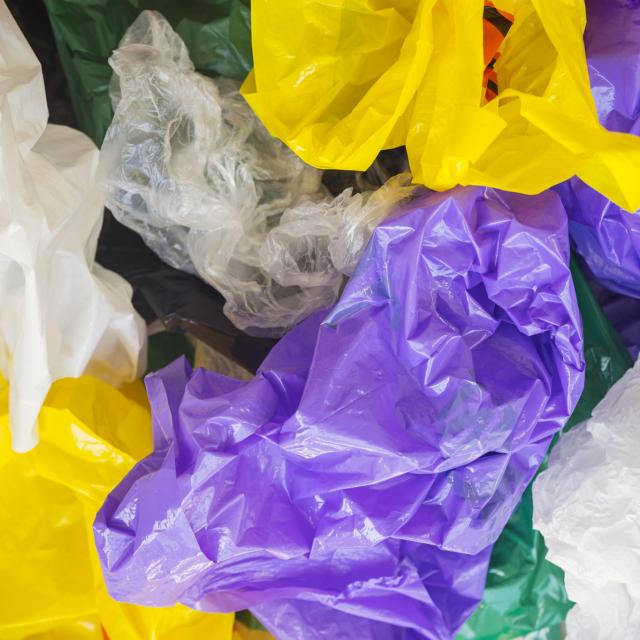Single-layer Plastic: (95, 186, 584, 640), (96, 10, 425, 337), (241, 0, 639, 211), (0, 376, 274, 640), (0, 0, 146, 452), (44, 0, 253, 146), (533, 358, 640, 639), (455, 482, 572, 640), (553, 176, 640, 313), (567, 254, 633, 428), (584, 0, 640, 136)
